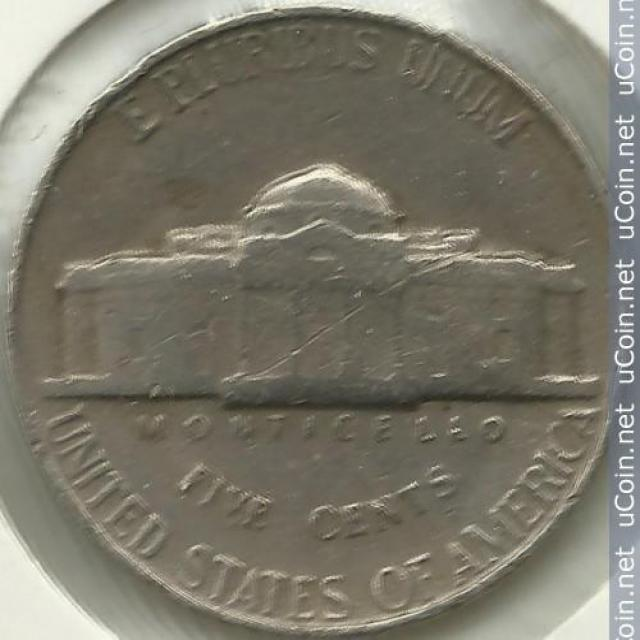Nickel: (21, 14, 638, 639)
